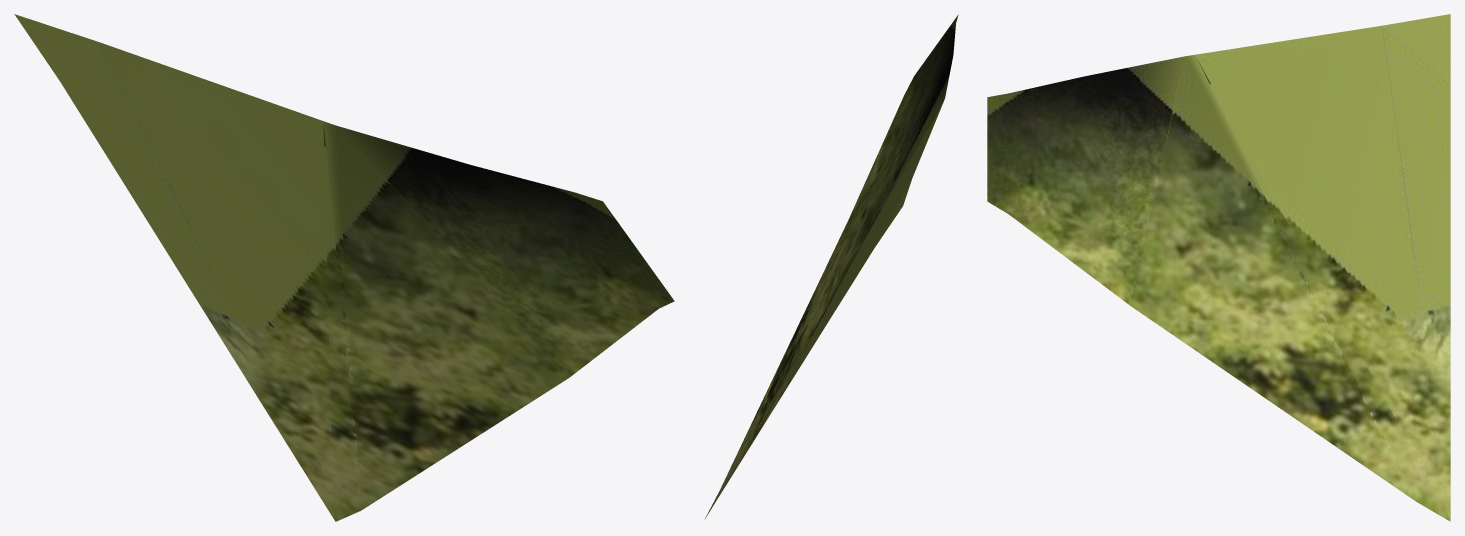
3 views of the same model, side by side, from view 1: azimuth 30°, elevation 25°; view 2: azimuth 150°, elevation 25°; view 3: azimuth 270°, elevation 25° (orthographic). The views are drawn at different scales.
Bounding box in the file's own units: 1.61 × 2.81 × 2.95.
2 materials, 2 textured.
